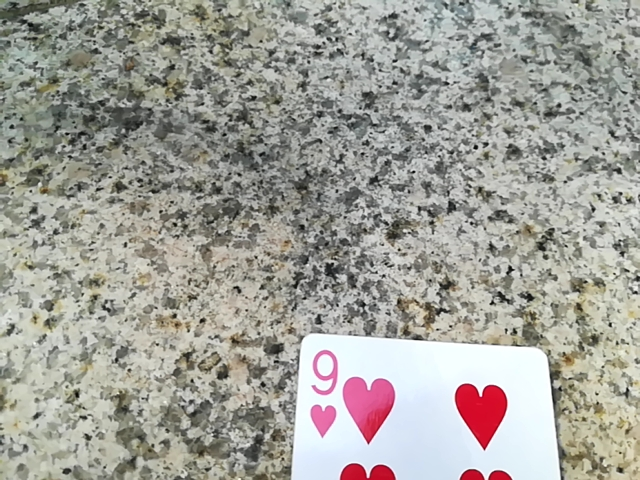hx 9: (281, 333, 573, 480)
